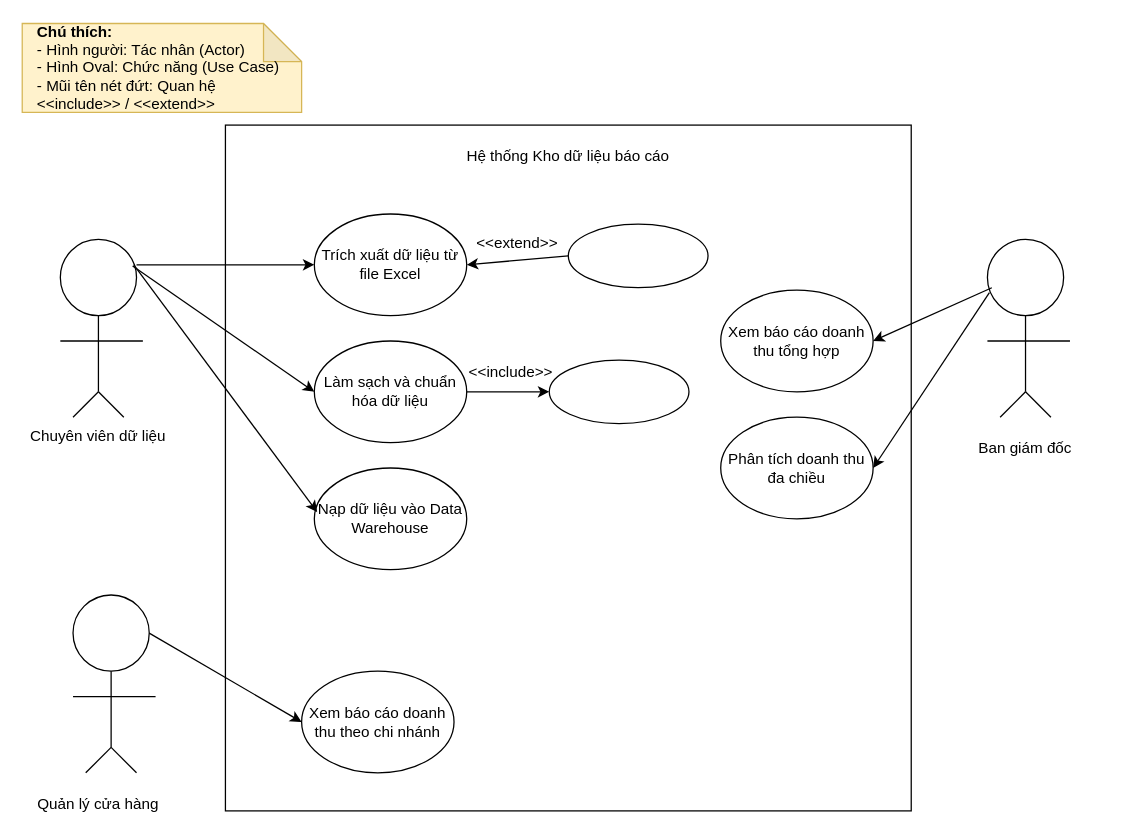
Some shapes in this 1124 by 834 pixel diagram are drawn without their labels. Each missing label, with the box of its shape:
Báo lỗi file Excel sai cấu trúc: (567, 223, 708, 288)
Ghi log dữ liệu lỗi: (548, 359, 689, 424)
